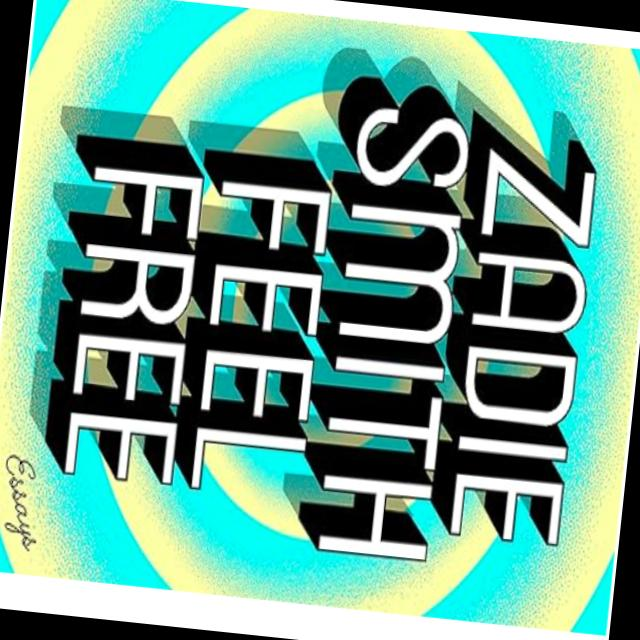titles-or-authors: (294, 86, 610, 592), (39, 119, 338, 508)
